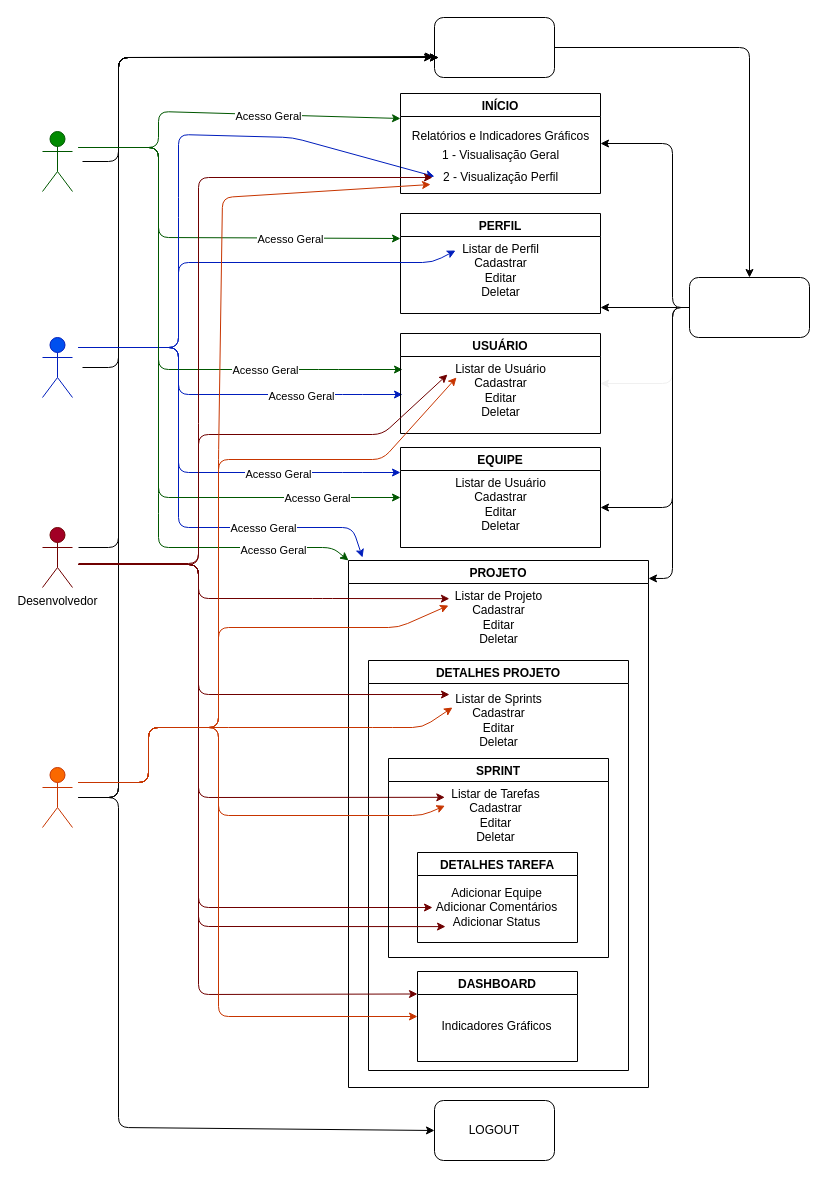
Image size: 827x1178. Some labels were removed from this diagram. Each missing label, with the centre of its shape:
"Administrador" goes at [57,161].
"Cliente" goes at [57,797].
"Coordenador Projetos" goes at [57,367].
"LOGIN" goes at [494,47].
"Verificar Permissão Acesso" goes at [749,307].
